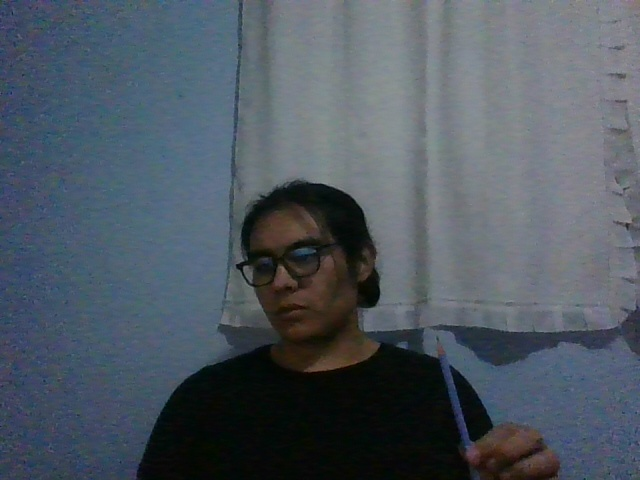lapiz: (435, 335, 481, 480)
